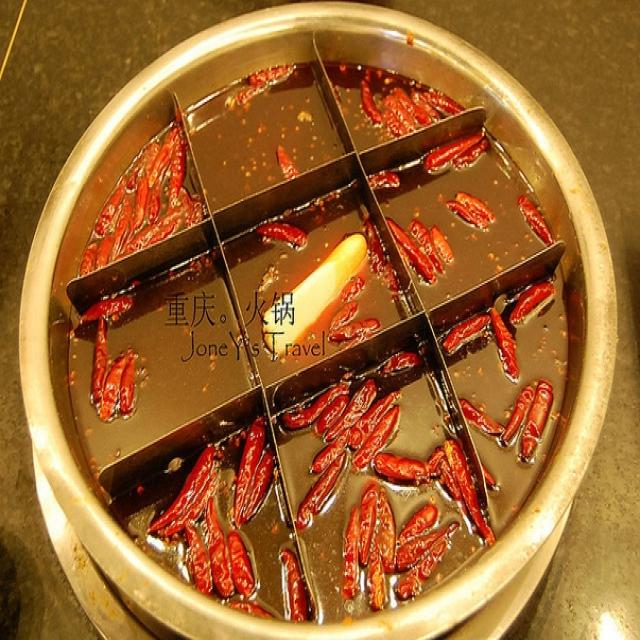汤锅炖物: (17, 1, 618, 634)
